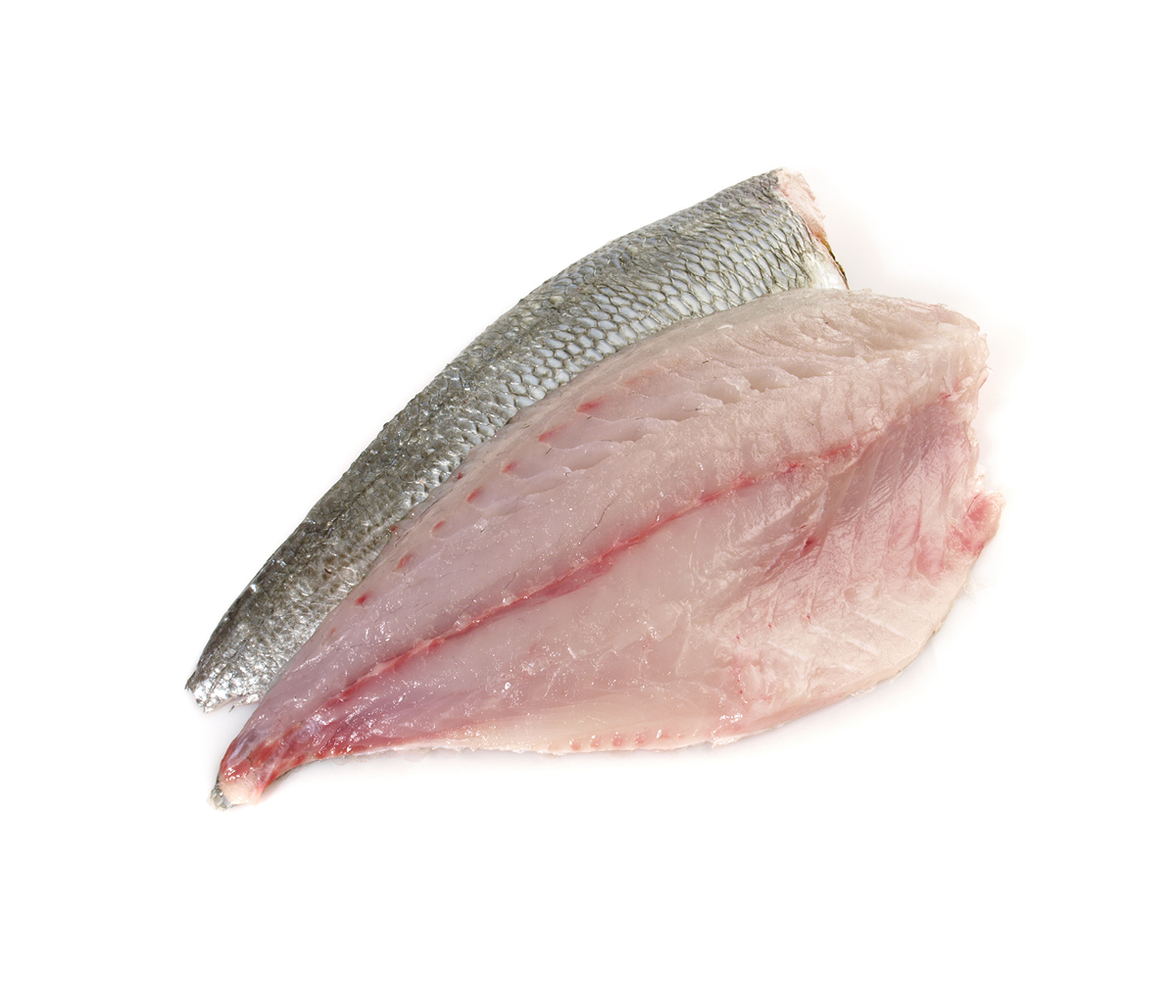bream-fish: (209, 287, 1015, 813)
